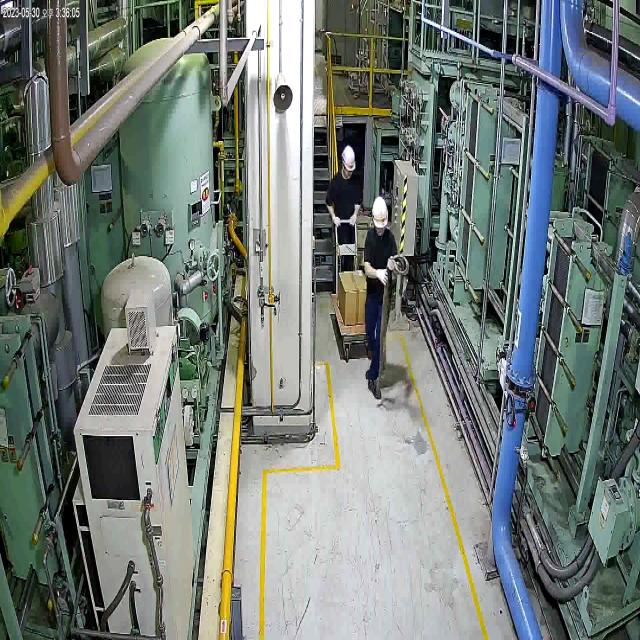worker: (361, 192, 399, 406), (322, 130, 362, 284)
